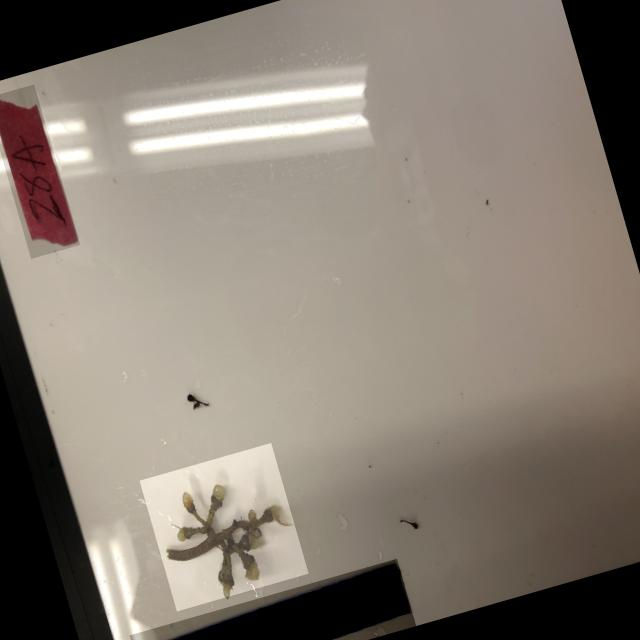index: (0, 82, 79, 257)
measure_label: (129, 557, 416, 640)
rachis_cluster: (139, 442, 308, 610)
